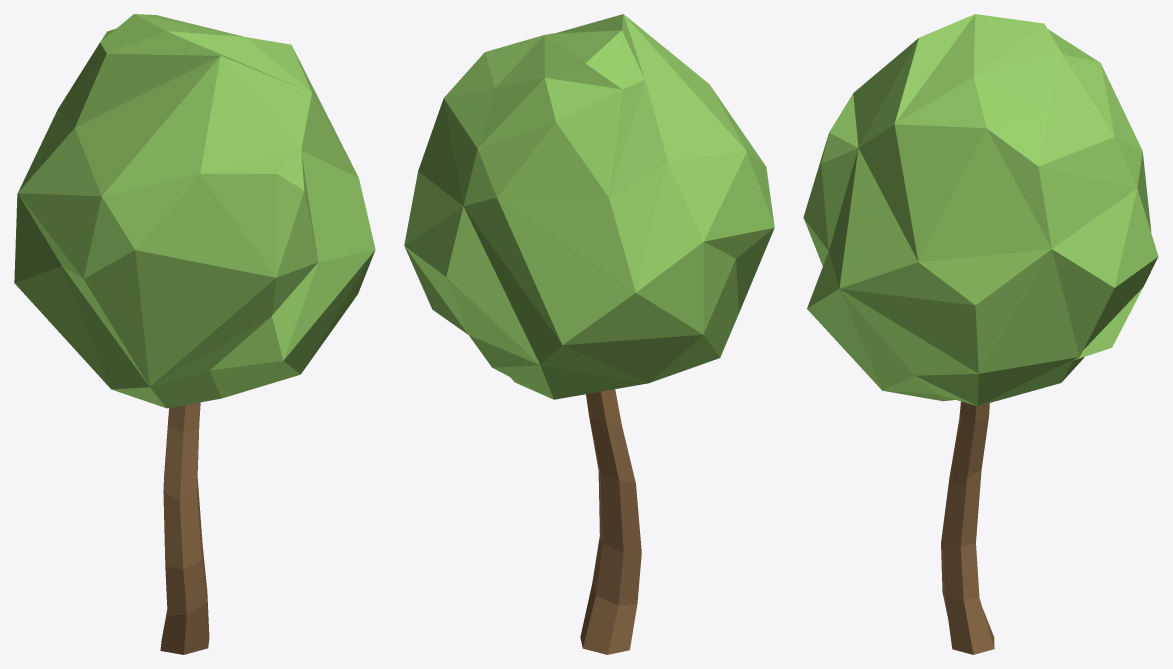
File: tree1spring.fbx
3 views of the same model, side by side, from view 1: azimuth 30°, elevation 25°; view 2: azimuth 150°, elevation 25°; view 3: azimuth 270°, elevation 25° (orthographic).
Visible parts, largest first — view 1: pCylinder3; view 2: pCylinder3; view 3: pCylinder3.
Boxes of the visible parts, box(x1,y1,x2,y2) form: pCylinder3: box(14, 14, 375, 654); pCylinder3: box(404, 14, 774, 654); pCylinder3: box(803, 14, 1158, 654).
Size of the model in its own units: 11.6 by 22.81 by 11.82.
